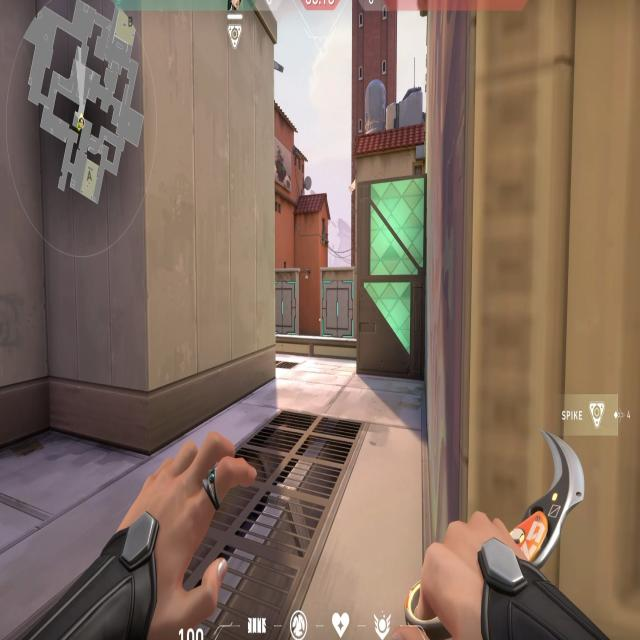Mid_Wall: (322, 271, 354, 341), (278, 280, 298, 334)
